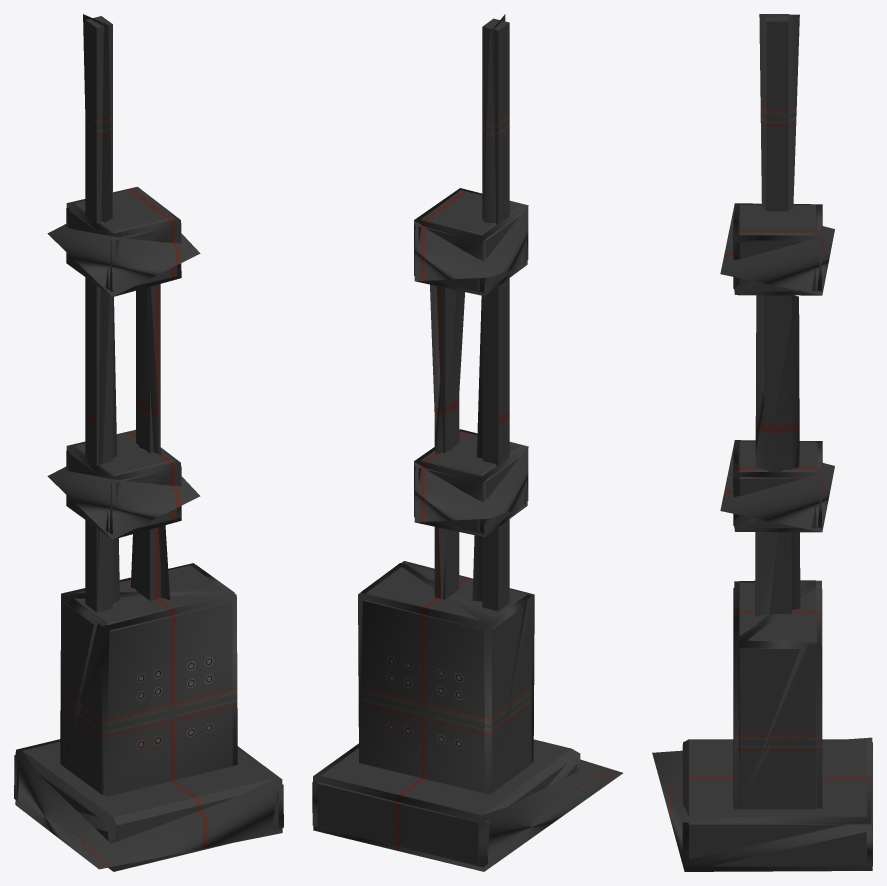
Rendered from sm_skyscraper_module14.glb.
The picture shows the model from 3 angles, left to right: view 1: azimuth 30°, elevation 25°; view 2: azimuth 150°, elevation 25°; view 3: azimuth 270°, elevation 25°; orthographic projection. The views are drawn at different scales.
Parts seen in each view (by area): view 1: sm_skyscraper_module14_00; view 2: sm_skyscraper_module14_00; view 3: sm_skyscraper_module14_00.
Part boxes in pixels (x1=…): sm_skyscraper_module14_00: x1=14, y1=14, x2=283, y2=871; sm_skyscraper_module14_00: x1=312, y1=14, x2=622, y2=871; sm_skyscraper_module14_00: x1=652, y1=14, x2=872, y2=871.
Bounding box in the file's own units: 1.9 × 7.37 × 1.86.
1 material, 1 textured.
